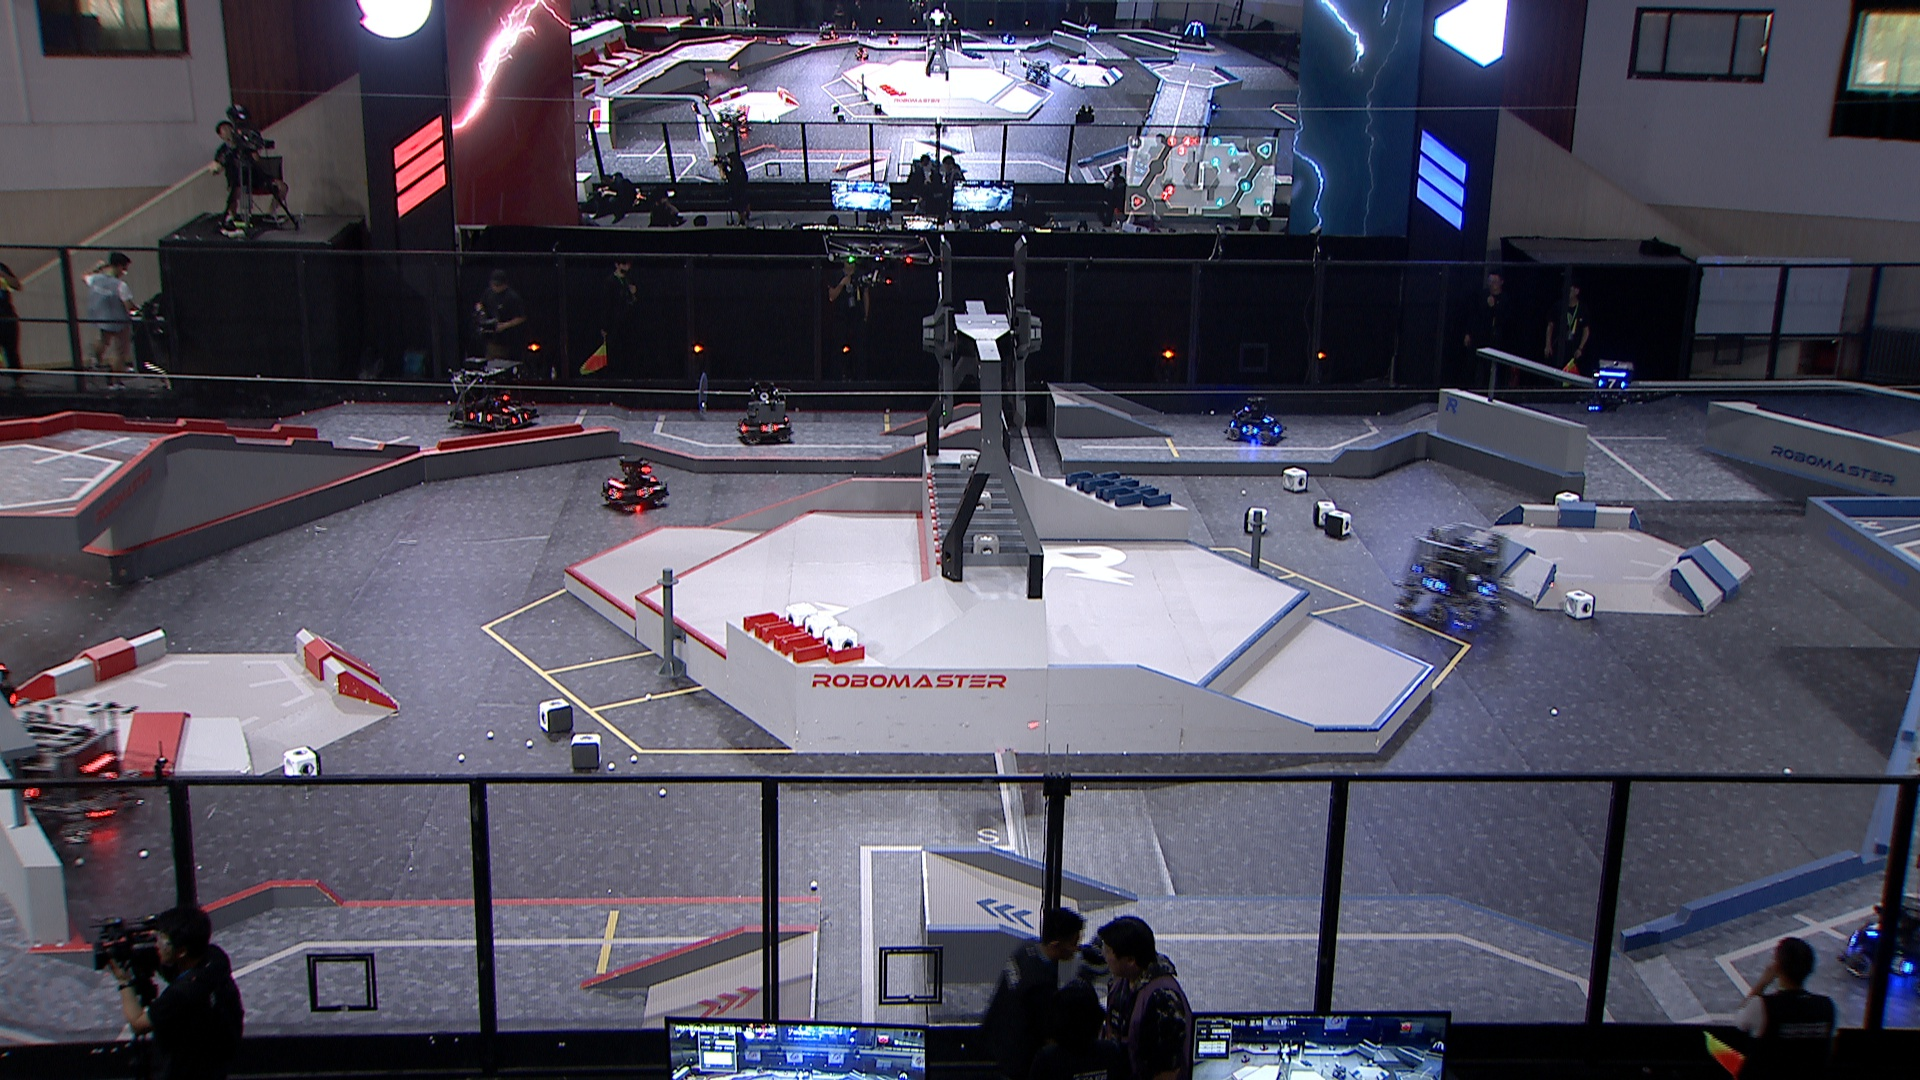armor: (1884, 955, 1915, 978), (1423, 575, 1447, 595), (1598, 376, 1627, 390), (465, 410, 495, 425), (1476, 580, 1495, 599), (509, 411, 531, 427), (760, 419, 781, 434), (500, 401, 522, 414), (636, 485, 655, 500), (1240, 422, 1259, 436), (607, 487, 622, 500), (1262, 411, 1276, 425)
car: (1387, 522, 1513, 628), (1842, 884, 1920, 996), (446, 352, 538, 436), (599, 456, 669, 514), (1222, 392, 1290, 450), (735, 400, 793, 446)
ignore: (717, 102, 750, 135), (1025, 57, 1051, 88), (1178, 21, 1209, 46), (688, 95, 712, 113)
watcher: (1584, 357, 1636, 414)
